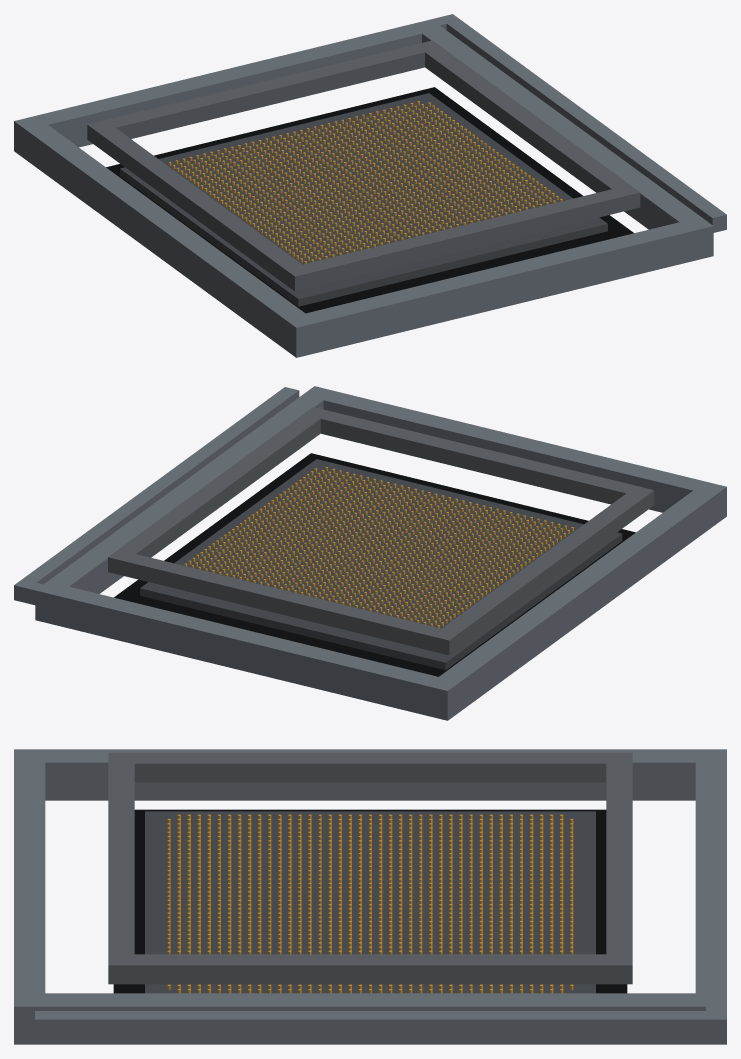
File: L32_CPU_AM5.fbx
The picture shows the model from 3 angles, top to bottom: view 1: azimuth 30°, elevation 25°; view 2: azimuth 150°, elevation 25°; view 3: azimuth 270°, elevation 25°; orthographic projection. The views are drawn at different scales.
Visible parts, largest first — view 1: CPU_AM5_Steel, CPU_AM5_Gray, CPU_AM5_Silver, CPU_AM5_Gold, CPU_AM5_Black; view 2: CPU_AM5_Steel, CPU_AM5_Gray, CPU_AM5_Silver, CPU_AM5_Gold, CPU_AM5_Black; view 3: CPU_AM5_Steel, CPU_AM5_Gray, CPU_AM5_Silver, CPU_AM5_Gold, CPU_AM5_Black.
Part boxes in pixels (<box>): CPU_AM5_Steel: <box>14,14,726,357</box>; CPU_AM5_Gray: <box>120,93,607,306</box>; CPU_AM5_Silver: <box>87,40,640,291</box>; CPU_AM5_Gold: <box>169,101,562,263</box>; CPU_AM5_Black: <box>106,87,633,313</box>; CPU_AM5_Steel: <box>14,386,726,720</box>; CPU_AM5_Gray: <box>140,459,622,670</box>; CPU_AM5_Silver: <box>108,407,654,655</box>; CPU_AM5_Gold: <box>184,467,573,627</box>; CPU_AM5_Black: <box>114,453,635,676</box>; CPU_AM5_Steel: <box>14,749,726,1044</box>; CPU_AM5_Gray: <box>145,811,595,993</box>; CPU_AM5_Silver: <box>108,752,632,984</box>; CPU_AM5_Gold: <box>167,814,573,993</box>; CPU_AM5_Black: <box>113,809,627,993</box>.
Bounding box in the file's own units: 6.1 × 0.8 × 6.8.
